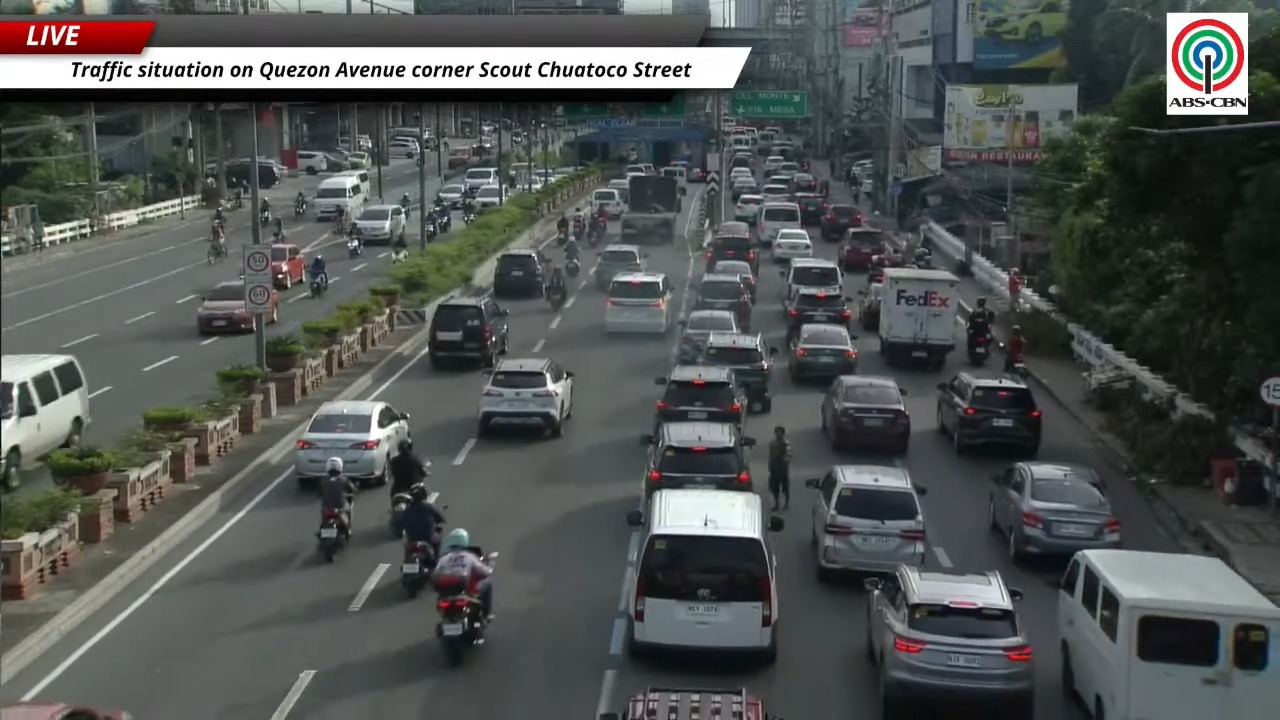car: (624, 489, 784, 663), (864, 565, 1035, 718), (805, 465, 926, 579), (989, 462, 1120, 560), (0, 353, 91, 491), (294, 400, 410, 487), (937, 372, 1041, 455), (641, 421, 754, 497), (477, 358, 573, 436), (820, 375, 910, 453), (697, 333, 777, 412), (428, 296, 508, 368), (604, 272, 676, 333), (788, 324, 857, 381), (982, 0, 1067, 42), (786, 286, 851, 339), (677, 309, 740, 362), (779, 259, 843, 309), (693, 274, 749, 329), (196, 281, 252, 334), (704, 222, 758, 275), (593, 243, 646, 290), (493, 250, 546, 297), (755, 195, 802, 246), (0, 701, 133, 719), (839, 225, 888, 269), (352, 204, 405, 244), (711, 260, 756, 303), (819, 204, 863, 241), (270, 244, 305, 289), (770, 228, 812, 263), (859, 283, 883, 330), (589, 187, 624, 219), (795, 191, 826, 227), (733, 192, 763, 224), (474, 184, 508, 208), (296, 150, 328, 174), (387, 137, 420, 158), (731, 177, 758, 202), (437, 185, 465, 208), (760, 183, 791, 202), (790, 172, 818, 193), (324, 149, 350, 171), (606, 179, 628, 203), (775, 161, 803, 179), (730, 152, 754, 170), (763, 155, 784, 174), (347, 151, 370, 168), (764, 174, 789, 189), (686, 168, 706, 183), (729, 168, 753, 179), (624, 164, 647, 175)
motorcycle: (435, 580, 487, 665), (401, 542, 438, 598), (389, 480, 424, 537), (317, 508, 348, 561), (389, 492, 411, 538), (967, 333, 989, 366), (1006, 353, 1029, 379), (546, 287, 568, 312), (434, 206, 451, 233), (587, 223, 604, 247), (309, 276, 326, 297), (347, 237, 362, 258), (426, 215, 438, 241), (564, 258, 580, 277), (391, 247, 408, 263), (573, 220, 585, 242), (294, 201, 306, 217), (260, 209, 271, 226), (463, 210, 476, 224), (557, 230, 569, 244)
truck: (877, 268, 960, 367), (597, 686, 782, 719), (620, 175, 683, 244)
